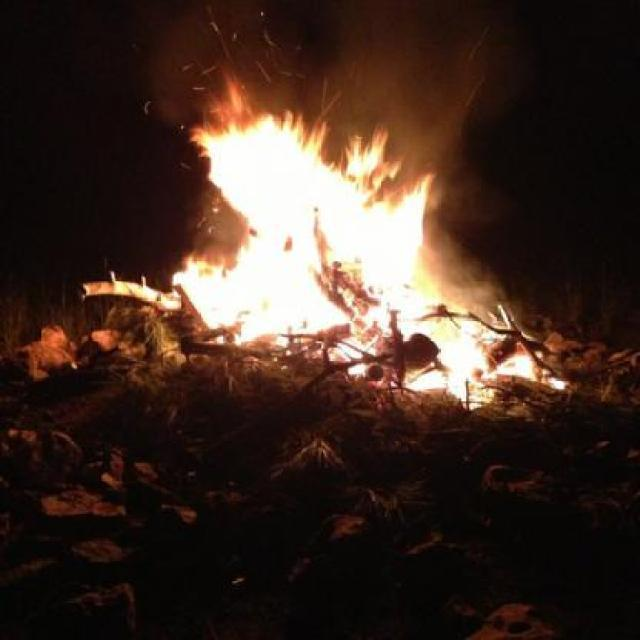Fire: (186, 111, 516, 385)
